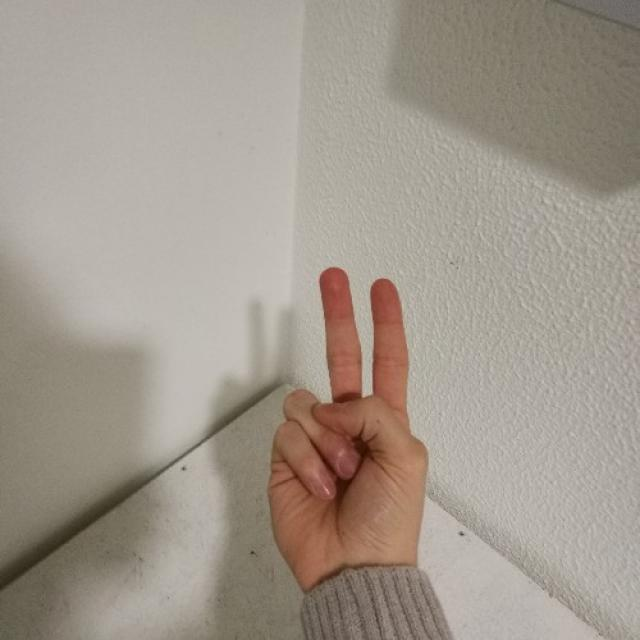scissors: (270, 262, 430, 538)
